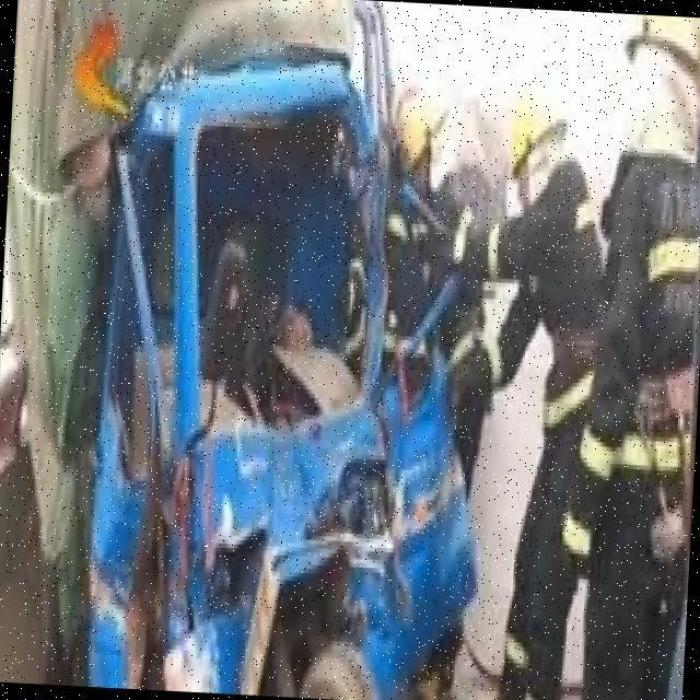Accident: (30, 0, 518, 700)
